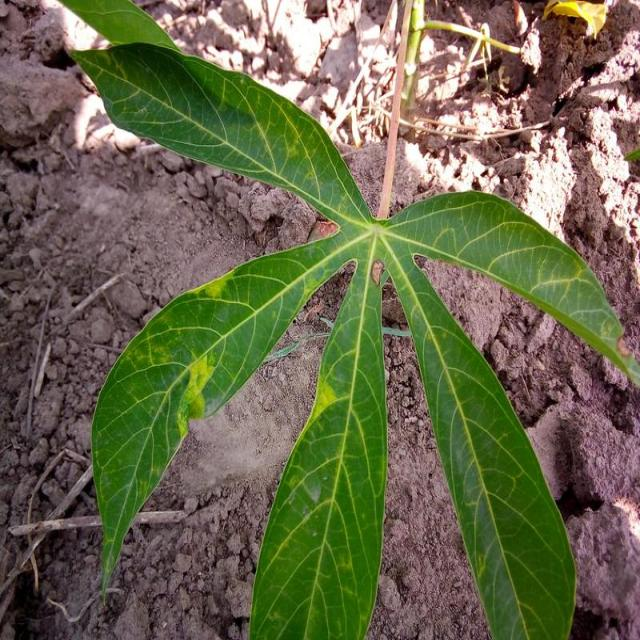cassava leaf: (60, 2, 636, 637), (247, 235, 388, 638)
